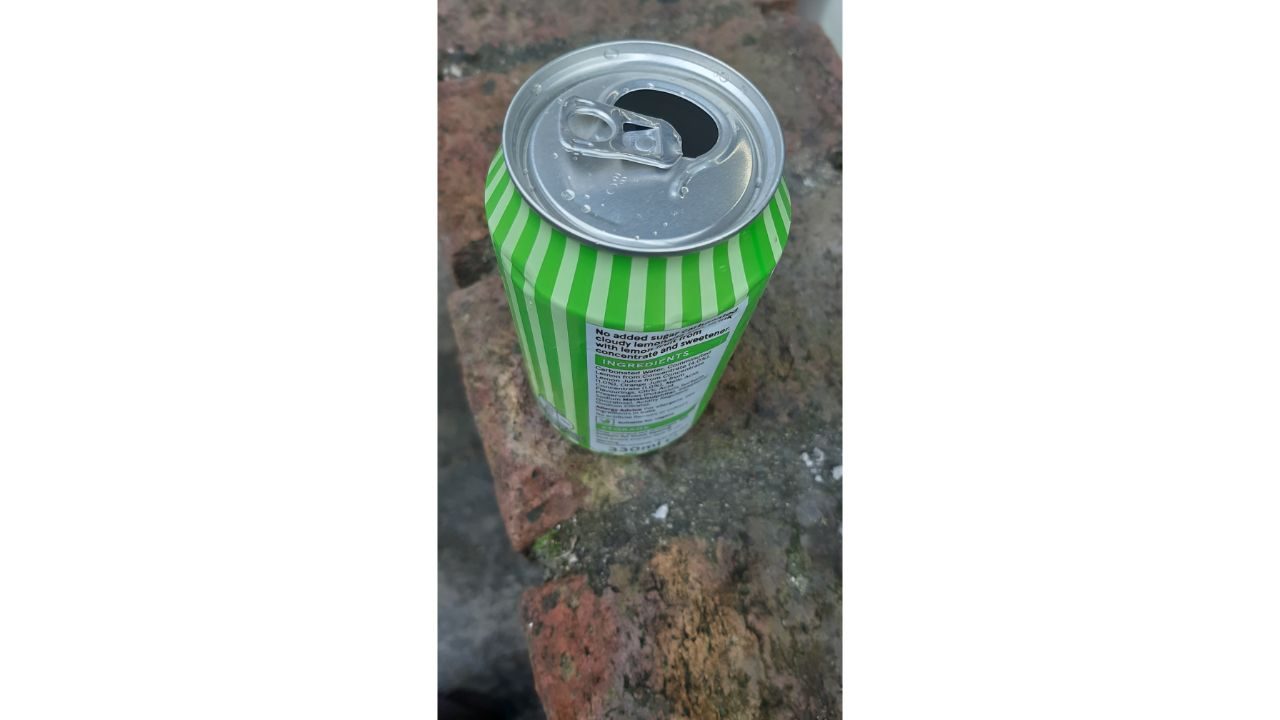Can: (483, 39, 795, 458)
